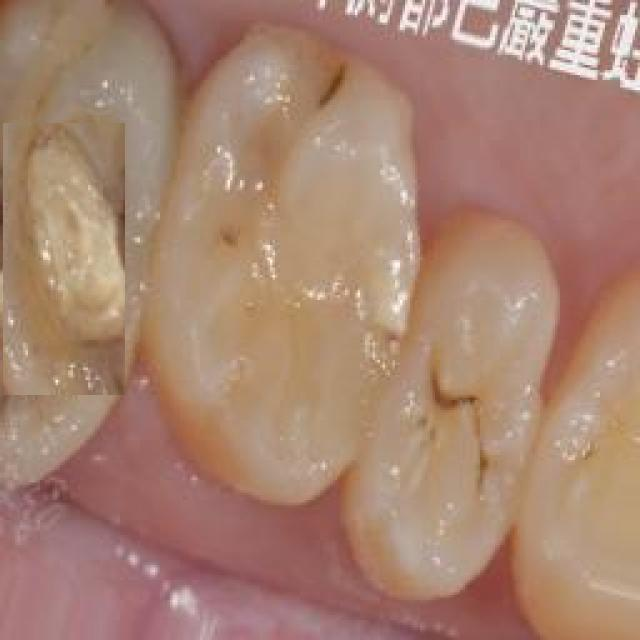caries: (3, 123, 125, 395), (430, 365, 505, 510), (317, 65, 355, 113), (220, 225, 238, 250)
